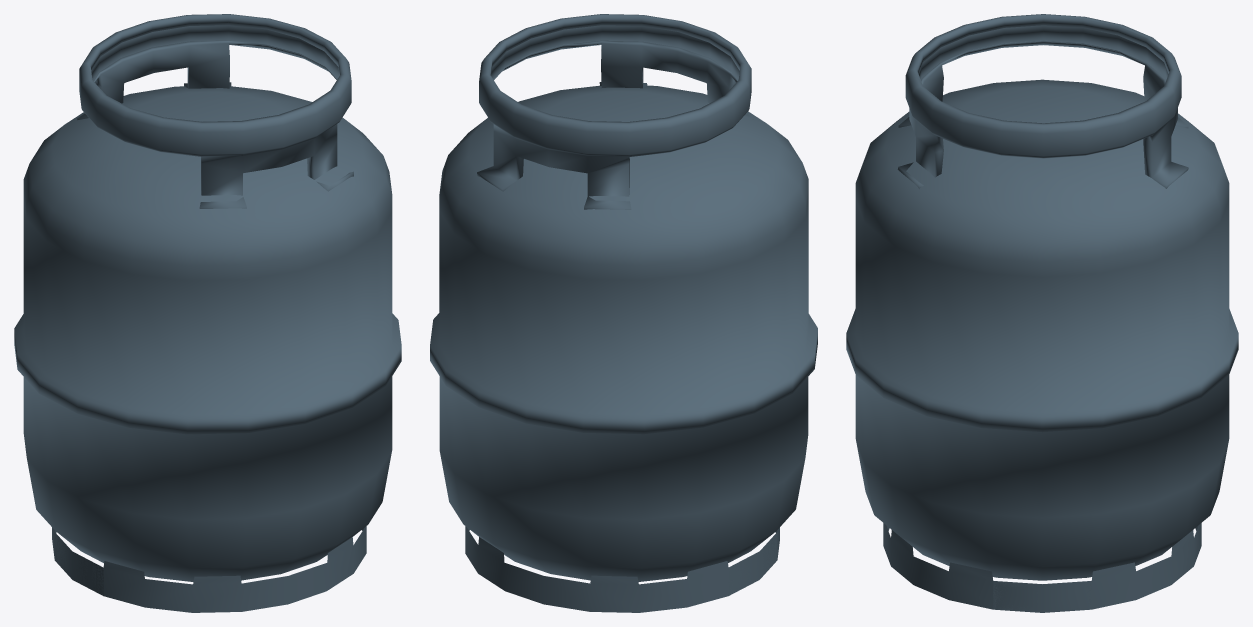
File: botijao_de_gas_TEXTURIZADO.fbx
The picture shows the model from 3 angles, left to right: view 1: azimuth 30°, elevation 25°; view 2: azimuth 150°, elevation 25°; view 3: azimuth 270°, elevation 25°; orthographic projection.
Parts seen in each view (by area): view 1: bottijao_smooth; view 2: bottijao_smooth; view 3: bottijao_smooth.
Boxes of the visible parts, x1,y1,x2,y2 form: bottijao_smooth: (14, 14, 401, 612); bottijao_smooth: (430, 14, 817, 612); bottijao_smooth: (846, 14, 1238, 612).
Size of the model in its own units: 38.89 by 52.38 by 38.89.
